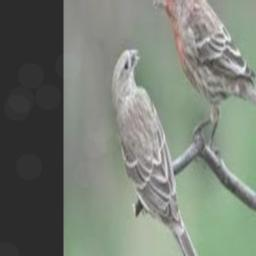Sparrow: (111, 48, 203, 256), (153, 0, 256, 149)
